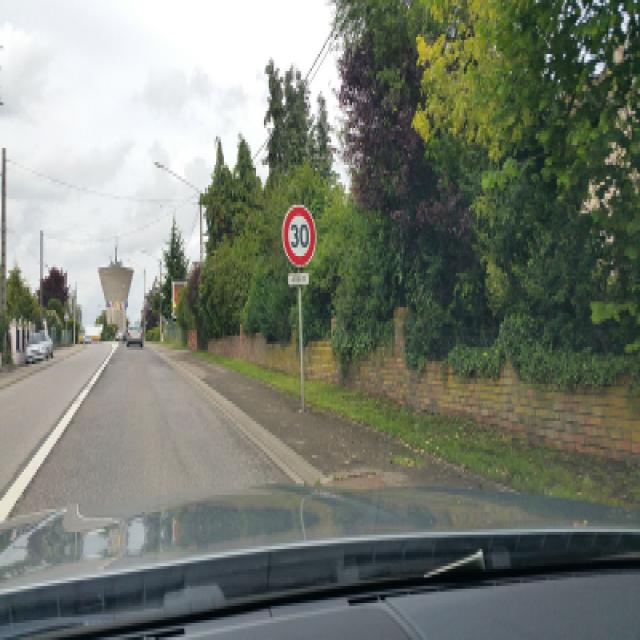speed_30: (282, 204, 318, 268)
